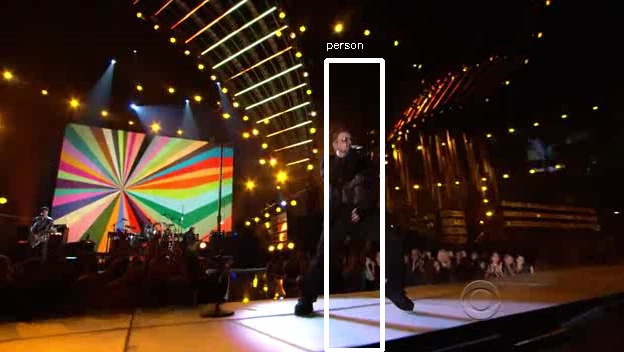person: (317, 130, 382, 247), (314, 130, 379, 247), (320, 130, 385, 247), (317, 127, 382, 244), (317, 133, 382, 250)
target_negative: (85, 74, 572, 112), (535, 97, 613, 279), (68, 335, 476, 351), (315, 117, 336, 310), (134, 248, 156, 332), (580, 232, 589, 280)
